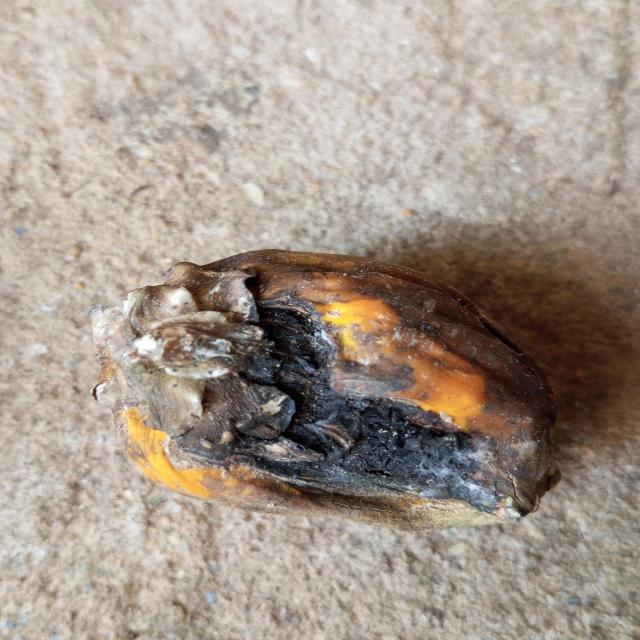damaged: (91, 250, 559, 528)
